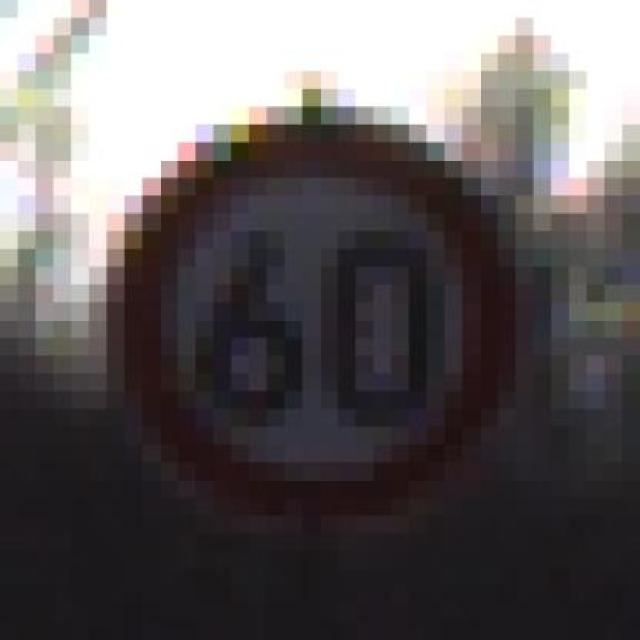forb_speed_over_60: (119, 119, 504, 512)
